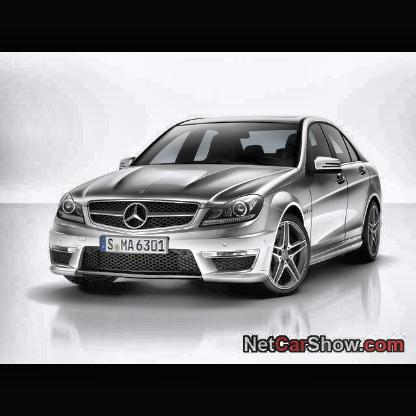Mercedes-Benz C-Class Sedan 2012: (48, 116, 382, 296)
